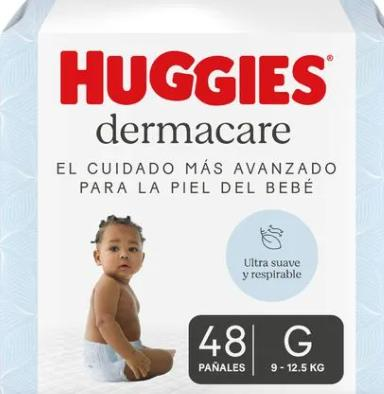brand: (44, 41, 338, 111)
extra_detail: (274, 322, 325, 360)
net_weight: (191, 316, 262, 380)
product_name: (86, 114, 307, 152)
